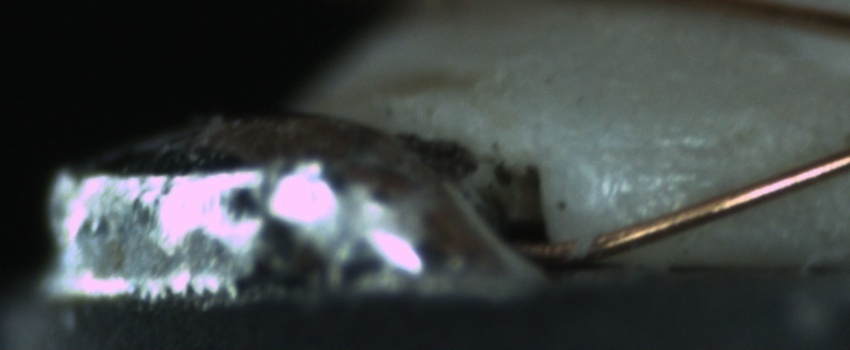DL: (592, 122, 737, 188)
